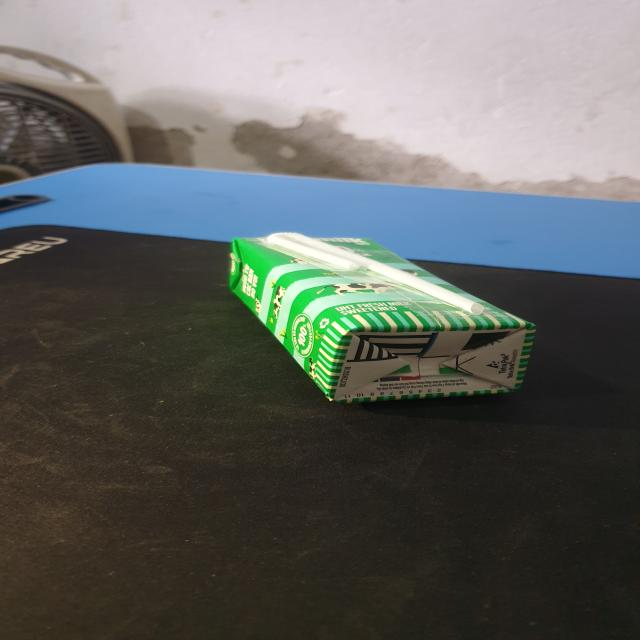Vina: (230, 237, 542, 404)
